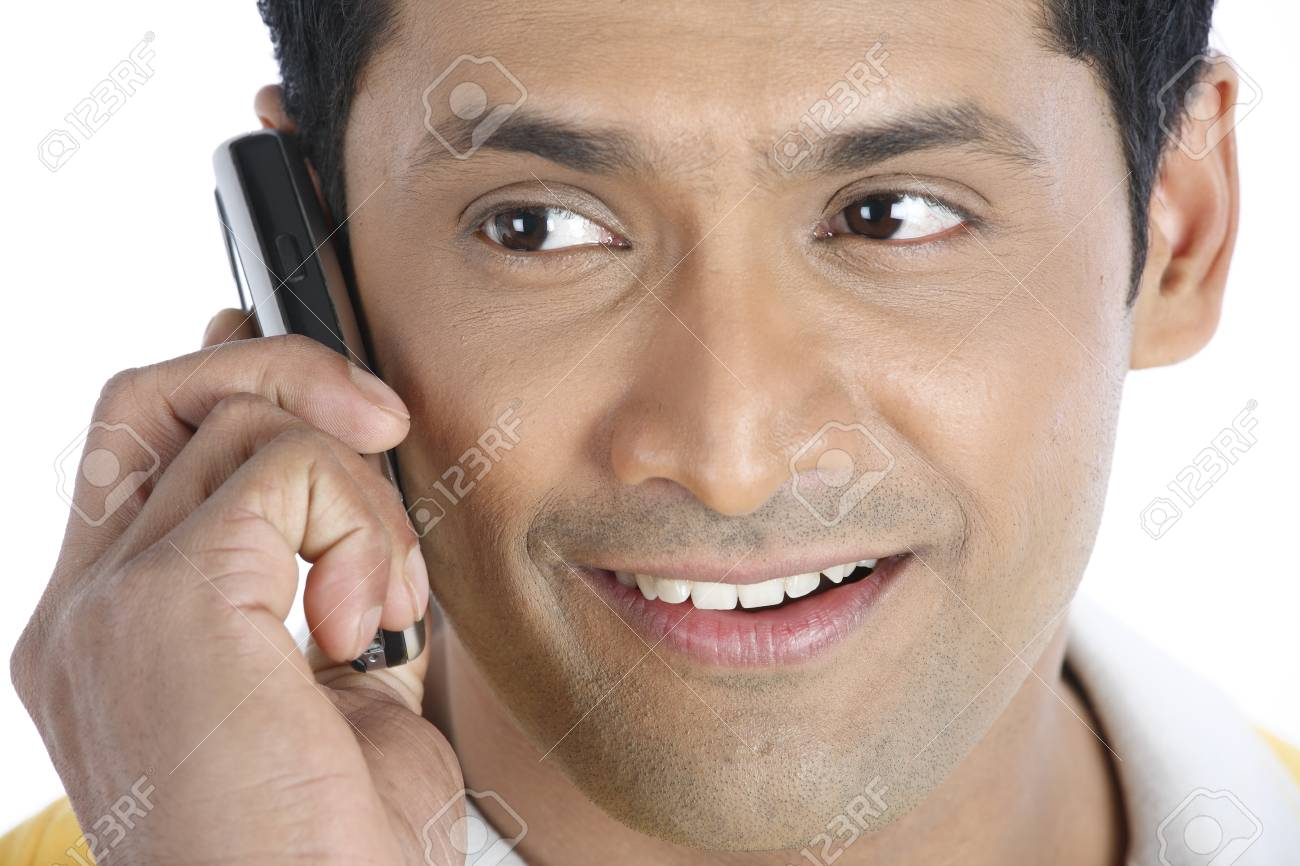phone: (211, 126, 428, 668)
talk: (10, 83, 1093, 862)
